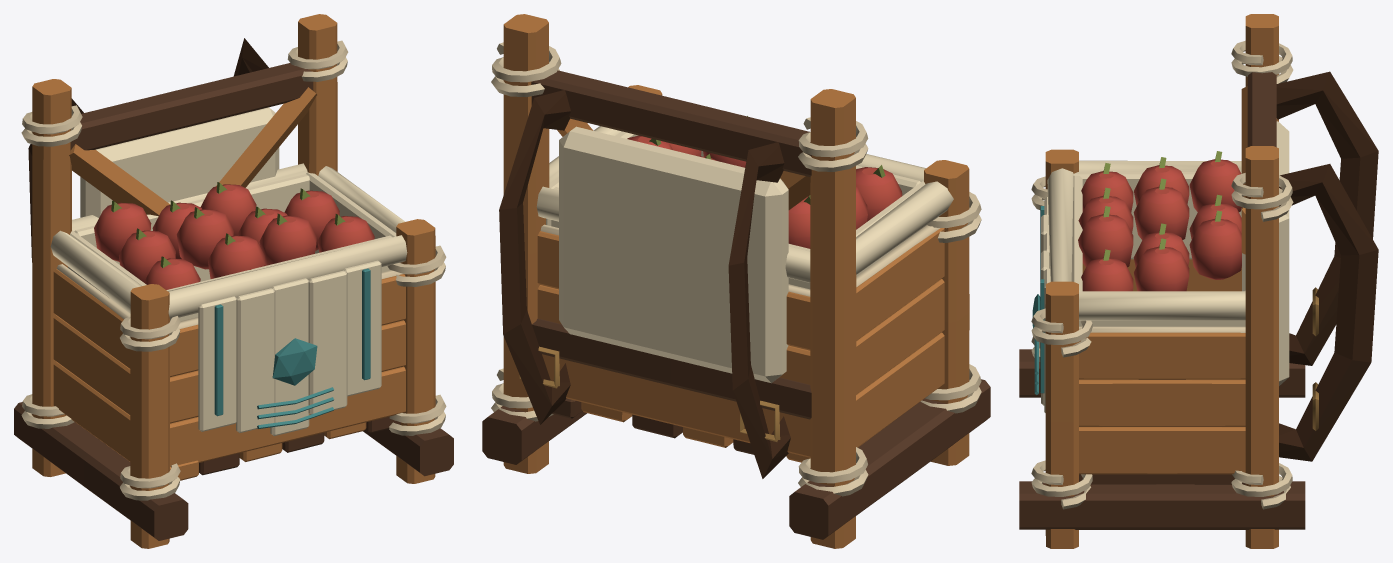
Rendered from prop_trade_pack_tomato_a.glb.
3 views of the same model, side by side, from view 1: azimuth 30°, elevation 25°; view 2: azimuth 150°, elevation 25°; view 3: azimuth 270°, elevation 25° (orthographic). The views are drawn at different scales.
Visible parts, largest first — view 1: prop_trade_pack_tomato_a_LOD0; view 2: prop_trade_pack_tomato_a_LOD0; view 3: prop_trade_pack_tomato_a_LOD0.
Part boxes in pixels (<box>): prop_trade_pack_tomato_a_LOD0: <box>14,14,453,548</box>; prop_trade_pack_tomato_a_LOD0: <box>482,14,990,548</box>; prop_trade_pack_tomato_a_LOD0: <box>1019,14,1378,548</box>.
Size of what is drawn, in the model's own units: 0.8384 by 0.96 by 0.8041.
